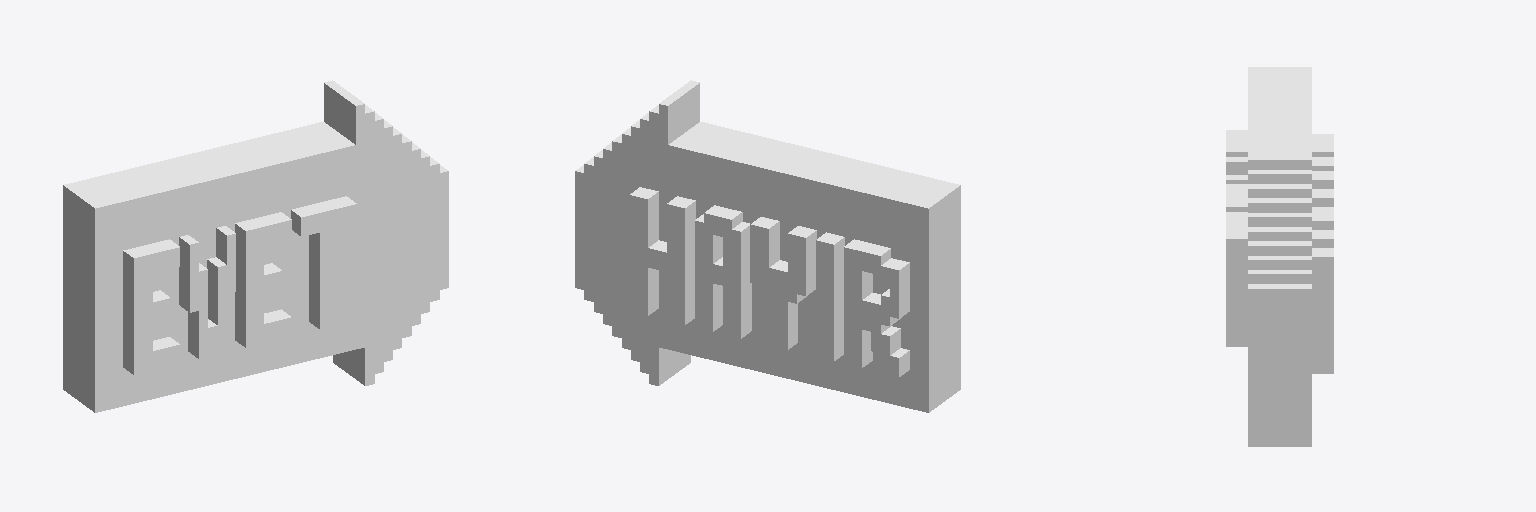
The model's file is evethayir.obj.
3 views of the same model, side by side, from view 1: azimuth 30°, elevation 25°; view 2: azimuth 150°, elevation 25°; view 3: azimuth 270°, elevation 25° (orthographic).
Parts seen in each view (by area): view 1: object 1; view 2: object 1; view 3: object 1.
Part boxes in pixels (bbox=[...]): object 1: bbox=[63, 80, 448, 412]; object 1: bbox=[575, 80, 960, 412]; object 1: bbox=[1226, 67, 1333, 446].
Bounding box in the file's own units: 3.8 × 2.9 × 1.